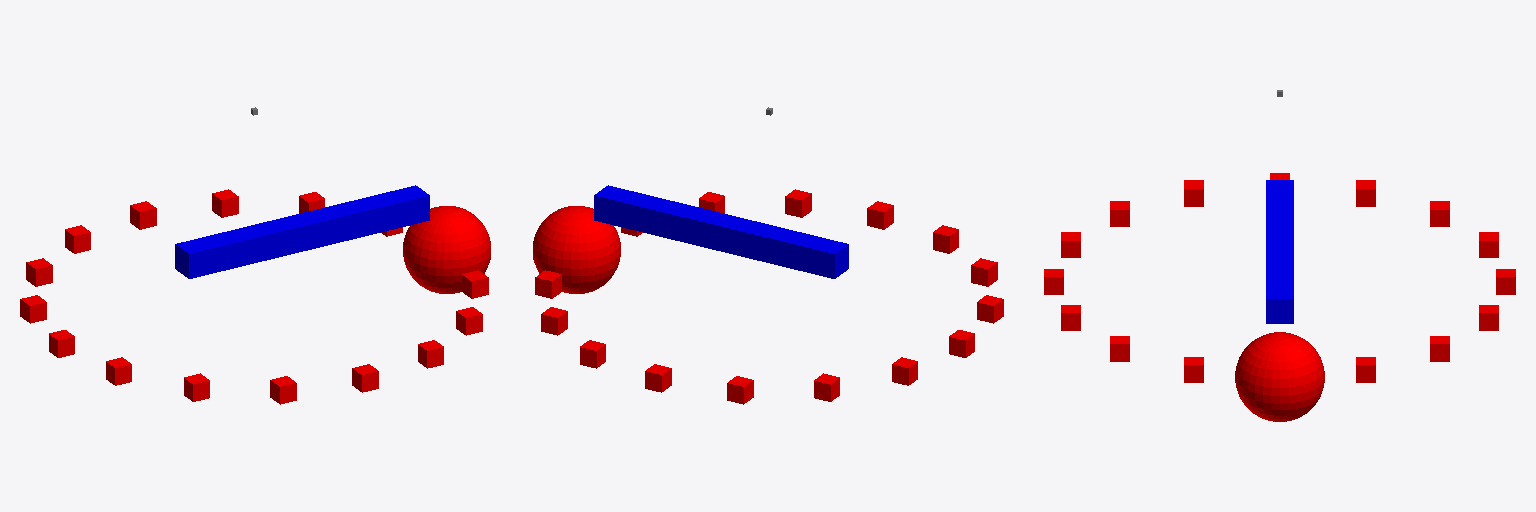
robot.urdf — bottle:
<?xml version="1.0" ?>
<robot name="bottle">
  <link name="link1">
    <visual>
      <geometry>
        <mesh filename="[local-path]/drlr/IsaacLab/source/isaaclab_tasks/isaaclab_tasks/direct/shadow_hand_lit/assets/single_bottle/cap.obj" scale="1.0 1.0 1.0"/>
      </geometry>
      <material name="link1_color">
        <color rgba="0 1.0 0 1"/>
      </material>
    </visual>
    <collision>
      <geometry>
        <mesh filename="[local-path]/drlr/IsaacLab/source/isaaclab_tasks/isaaclab_tasks/direct/shadow_hand_lit/assets/single_bottle/cap.obj" scale="1.0 1.0 1.0"/>
      </geometry>
    </collision>
    <inertial>
      <mass value="0.04416286286674076"/>
      <origin rpy="0 0 0" xyz="0 0 0"/>
      <inertia ixx="1.9167690184768486e-05" ixy="-5.818213138829565e-23" ixz="9.309141022127305e-23" iyy="1.9167690184768493e-05" iyz="-1.844789058154749e-22" izz="3.5104000382999454e-05"/>
    </inertial>
  </link>
  <link name="link2">
    <visual>
      <geometry>
        <mesh filename="[local-path]/drlr/IsaacLab/source/isaaclab_tasks/isaaclab_tasks/direct/shadow_hand_lit/assets/single_bottle/base.obj" scale="1.0 1.0 1.0"/>
      </geometry>
      <material name="link2_color">
        <color rgba="0.9 0.3 0.3 1"/>
      </material>
    </visual>
    <collision>
      <geometry>
        <mesh filename="[local-path]/drlr/IsaacLab/source/isaaclab_tasks/isaaclab_tasks/direct/shadow_hand_lit/assets/single_bottle/base.obj" scale="1.0 1.0 1.0"/>
      </geometry>
    </collision>
    <inertial>
      <mass value="0.026205598029388093"/>
      <origin rpy="0 0 0" xyz="0 0 0"/>
      <inertia ixx="1.653967330320144e-05" ixy="-3.6206776315153025e-23" ixz="1.8140640585591647e-22" iyy="1.653967330320144e-05" iyz="1.2411277676490551e-22" izz="1.59481235227108e-05"/>
    </inertial>
  </link>
  <joint name="b_joint" type="revolute">
    <parent link="link2"/>
    <child link="link1"/>
    <origin rpy="0 0 0" xyz="0 0 0.02595275"/>
    <axis xyz="0 0 1"/>
    <dynamics damping="0.0" friction="0.0"/>
  </joint>
  <link name="brake">
    <visual>
      <geometry>
        <box size="0.001 0.001 0.001"/>
      </geometry>
      <material name="gray">
        <color rgba=".5 .5 .5 0.1"/>
      </material>
    </visual>
    <collision>
      <geometry>
        <box size="0.001 0.001 0.001"/>
      </geometry>
    </collision>
  </link>
  <joint name="brake_joint" type="prismatic">
    <parent link="link2"/>
    <child link="brake"/>
    <origin rpy="0 0 0" xyz="0 0 0.052267058834885964"/>
    <axis xyz="0 0 1"/>
    <limit lower="-0.001" upper="0.001"/>
  </joint>
  <link name="link3">
    <visual>
      <geometry>
        <box size="0.005 0.005 0.05"/>
      </geometry>
      <material name="box_rot_flag">
        <color rgba="0 0 1 1"/>
      </material>
    </visual>
  </link>
  <joint name="rot_flag" type="fixed">
    <parent link="link1"/>
    <child link="link3"/>
    <origin rpy="0 1.5708 0" xyz="0.01 0 0"/>
  </joint>
  <link name="l0">
    <visual>
      <geometry>
        <sphere radius="0.008"/>
      </geometry>
      <material name="box_red">
        <color rgba="1 0 0 0.5"/>
      </material>
    </visual>
  </link>
  <joint name="fixed_l0" type="fixed">
    <parent link="link1"/>
    <child link="l0"/>
    <origin xyz="0.0400 0.0000 -0.0105" rpy="0 0 0"/>
  </joint>
  <link name="l1">
    <visual>
      <geometry>
        <box size="0.0035 0.0035 0.0035"/>
      </geometry>
      <material name="box_red">
        <color rgba="1 0 0 0.5"/>
      </material>
    </visual>
  </link>
  <joint name="fixed_l1" type="fixed">
    <parent link="link1"/>
    <child link="l1"/>
    <origin xyz="0.0370 0.0153 -0.0105" rpy="0 0 0"/>
  </joint>
  <link name="l2">
    <visual>
      <geometry>
        <box size="0.0035 0.0035 0.0035"/>
      </geometry>
      <material name="box_red">
        <color rgba="1 0 0 0.5"/>
      </material>
    </visual>
  </link>
  <joint name="fixed_l2" type="fixed">
    <parent link="link1"/>
    <child link="l2"/>
    <origin xyz="0.0283 0.0283 -0.0105" rpy="0 0 0"/>
  </joint>
  <link name="l3">
    <visual>
      <geometry>
        <box size="0.0035 0.0035 0.0035"/>
      </geometry>
      <material name="box_red">
        <color rgba="1 0 0 0.5"/>
      </material>
    </visual>
  </link>
  <joint name="fixed_l3" type="fixed">
    <parent link="link1"/>
    <child link="l3"/>
    <origin xyz="0.0153 0.0370 -0.0105" rpy="0 0 0"/>
  </joint>
  <link name="l4">
    <visual>
      <geometry>
        <box size="0.0035 0.0035 0.0035"/>
      </geometry>
      <material name="box_red">
        <color rgba="1 0 0 0.5"/>
      </material>
    </visual>
  </link>
  <joint name="fixed_l4" type="fixed">
    <parent link="link1"/>
    <child link="l4"/>
    <origin xyz="0.0000 0.0400 -0.0105" rpy="0 0 0"/>
  </joint>
  <link name="l5">
    <visual>
      <geometry>
        <box size="0.0035 0.0035 0.0035"/>
      </geometry>
      <material name="box_red">
        <color rgba="1 0 0 0.5"/>
      </material>
    </visual>
  </link>
  <joint name="fixed_l5" type="fixed">
    <parent link="link1"/>
    <child link="l5"/>
    <origin xyz="-0.0153 0.0370 -0.0105" rpy="0 0 0"/>
  </joint>
  <link name="l6">
    <visual>
      <geometry>
        <box size="0.0035 0.0035 0.0035"/>
      </geometry>
      <material name="box_red">
        <color rgba="1 0 0 0.5"/>
      </material>
    </visual>
  </link>
  <joint name="fixed_l6" type="fixed">
    <parent link="link1"/>
    <child link="l6"/>
    <origin xyz="-0.0283 0.0283 -0.0105" rpy="0 0 0"/>
  </joint>
  <link name="l7">
    <visual>
      <geometry>
        <box size="0.0035 0.0035 0.0035"/>
      </geometry>
      <material name="box_red">
        <color rgba="1 0 0 0.5"/>
      </material>
    </visual>
  </link>
  <joint name="fixed_l7" type="fixed">
    <parent link="link1"/>
    <child link="l7"/>
    <origin xyz="-0.0370 0.0153 -0.0105" rpy="0 0 0"/>
  </joint>
  <link name="l8">
    <visual>
      <geometry>
        <box size="0.0035 0.0035 0.0035"/>
      </geometry>
      <material name="box_red">
        <color rgba="1 0 0 0.5"/>
      </material>
    </visual>
  </link>
  <joint name="fixed_l8" type="fixed">
    <parent link="link1"/>
    <child link="l8"/>
    <origin xyz="-0.0400 0.0000 -0.0105" rpy="0 0 0"/>
  </joint>
  <link name="l9">
    <visual>
      <geometry>
        <box size="0.0035 0.0035 0.0035"/>
      </geometry>
      <material name="box_red">
        <color rgba="1 0 0 0.5"/>
      </material>
    </visual>
  </link>
  <joint name="fixed_l9" type="fixed">
    <parent link="link1"/>
    <child link="l9"/>
    <origin xyz="-0.0370 -0.0153 -0.0105" rpy="0 0 0"/>
  </joint>
  <link name="l10">
    <visual>
      <geometry>
        <box size="0.0035 0.0035 0.0035"/>
      </geometry>
      <material name="box_red">
        <color rgba="1 0 0 0.5"/>
      </material>
    </visual>
  </link>
  <joint name="fixed_l10" type="fixed">
    <parent link="link1"/>
    <child link="l10"/>
    <origin xyz="-0.0283 -0.0283 -0.0105" rpy="0 0 0"/>
  </joint>
  <link name="l11">
    <visual>
      <geometry>
        <box size="0.0035 0.0035 0.0035"/>
      </geometry>
      <material name="box_red">
        <color rgba="1 0 0 0.5"/>
      </material>
    </visual>
  </link>
  <joint name="fixed_l11" type="fixed">
    <parent link="link1"/>
    <child link="l11"/>
    <origin xyz="-0.0153 -0.0370 -0.0105" rpy="0 0 0"/>
  </joint>
  <link name="l12">
    <visual>
      <geometry>
        <box size="0.0035 0.0035 0.0035"/>
      </geometry>
      <material name="box_red">
        <color rgba="1 0 0 0.5"/>
      </material>
    </visual>
  </link>
  <joint name="fixed_l12" type="fixed">
    <parent link="link1"/>
    <child link="l12"/>
    <origin xyz="-0.0000 -0.0400 -0.0105" rpy="0 0 0"/>
  </joint>
  <link name="l13">
    <visual>
      <geometry>
        <box size="0.0035 0.0035 0.0035"/>
      </geometry>
      <material name="box_red">
        <color rgba="1 0 0 0.5"/>
      </material>
    </visual>
  </link>
  <joint name="fixed_l13" type="fixed">
    <parent link="link1"/>
    <child link="l13"/>
    <origin xyz="0.0153 -0.0370 -0.0105" rpy="0 0 0"/>
  </joint>
  <link name="l14">
    <visual>
      <geometry>
        <box size="0.0035 0.0035 0.0035"/>
      </geometry>
      <material name="box_red">
        <color rgba="1 0 0 0.5"/>
      </material>
    </visual>
  </link>
  <joint name="fixed_l14" type="fixed">
    <parent link="link1"/>
    <child link="l14"/>
    <origin xyz="0.0283 -0.0283 -0.0105" rpy="0 0 0"/>
  </joint>
  <link name="l15">
    <visual>
      <geometry>
        <box size="0.0035 0.0035 0.0035"/>
      </geometry>
      <material name="box_red">
        <color rgba="1 0 0 0.5"/>
      </material>
    </visual>
  </link>
  <joint name="fixed_l15" type="fixed">
    <parent link="link1"/>
    <child link="l15"/>
    <origin xyz="0.0370 -0.0153 -0.0105" rpy="0 0 0"/>
  </joint>
</robot>

--- What the picture shows (computed from the rendered views, not written in the file) ---
Views: 3 orthographic renders of the robot side by side, from view 1: azimuth 30°, elevation 25°; view 2: azimuth 150°, elevation 25°; view 3: azimuth 270°, elevation 25°.
Model bottle with 20 links and 19 joints (1 revolute, 1 prismatic, 17 fixed), rooted at link2, posed every joint at zero.
Links seen in each view (by area): view 1: link3, l0, l14, l4, l11, l6, l12, l15, l3, l7, l5, l8 (+3 smaller); view 2: link3, l0, l2, l5, l12, l1, l4, l10, l9, l13, l11, l3 (+3 smaller); view 3: l0, link3, l7, l9.
Boxes of the visible links, x1,y1,x2,y2 form: link3: [175, 185, 429, 278]; l0: [403, 206, 490, 293]; l14: [456, 307, 482, 335]; l4: [130, 201, 156, 229]; l11: [270, 376, 296, 404]; l6: [26, 258, 52, 286]; l12: [352, 364, 378, 392]; l15: [462, 270, 488, 298]; l3: [212, 189, 238, 217]; l7: [20, 295, 46, 323]; l5: [65, 225, 90, 253]; l8: [49, 330, 74, 357]; link3: [594, 185, 848, 278]; l0: [533, 206, 620, 293]; l2: [541, 307, 567, 335]; l5: [727, 376, 753, 404]; l12: [867, 201, 893, 229]; l1: [535, 270, 561, 298]; l4: [645, 364, 671, 392]; l10: [971, 258, 997, 286]; l9: [977, 295, 1003, 323]; l13: [785, 189, 811, 217]; l11: [933, 225, 958, 253]; l3: [580, 340, 605, 368]; l0: [1235, 332, 1324, 421]; link3: [1266, 180, 1293, 323]; l7: [1356, 180, 1375, 206]; l9: [1184, 180, 1203, 206].
Size in the robot's own frame: 0.0897 by 0.0835 by 0.0453 metres.
Geometry: only primitive shapes (box / cylinder / sphere) drawn; not drawn: 2 mesh visuals (reference in a form the renderer does not follow).